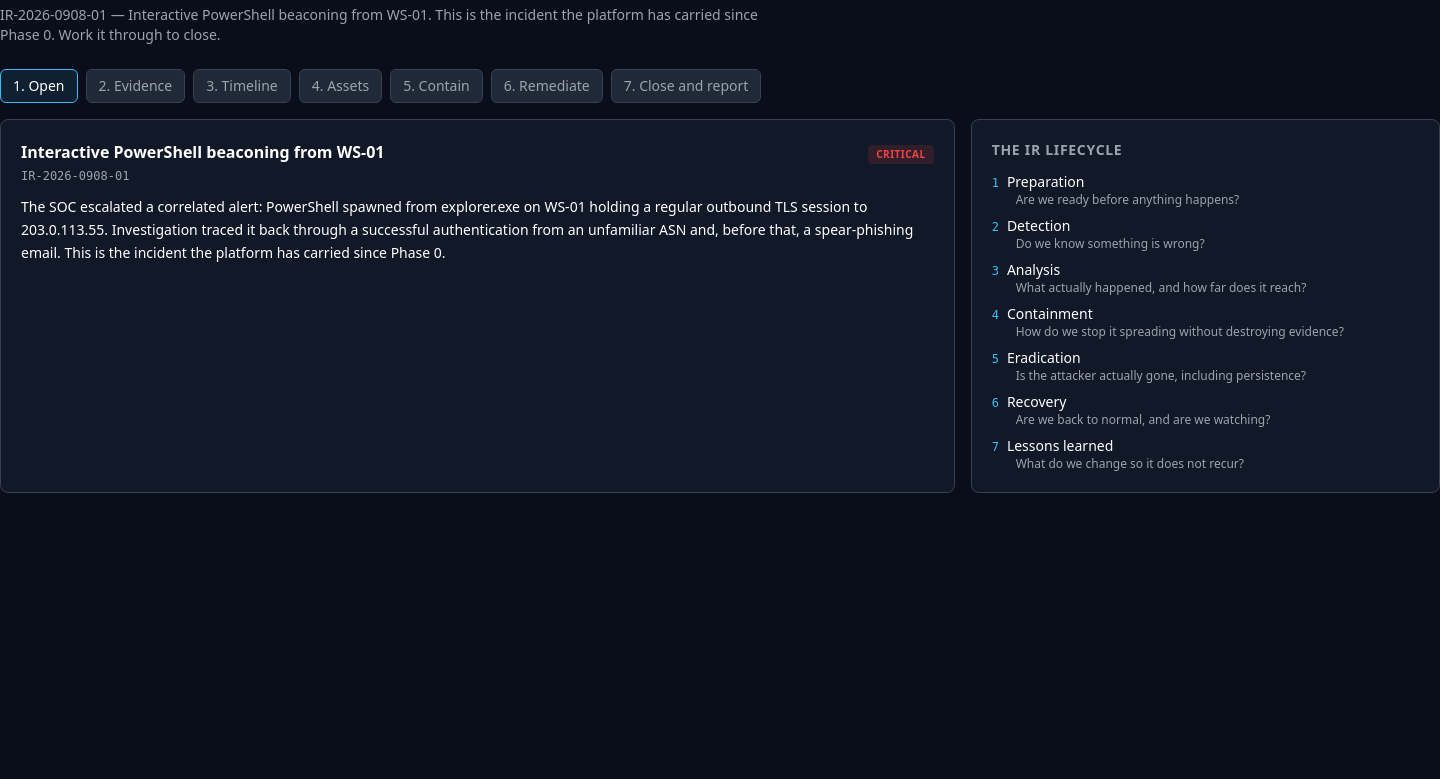
Incident Console › reports both containment axes as failed for a reboot
Click the button "5. Contain": (436, 86) top-left (390, 69), bottom-right (483, 103)
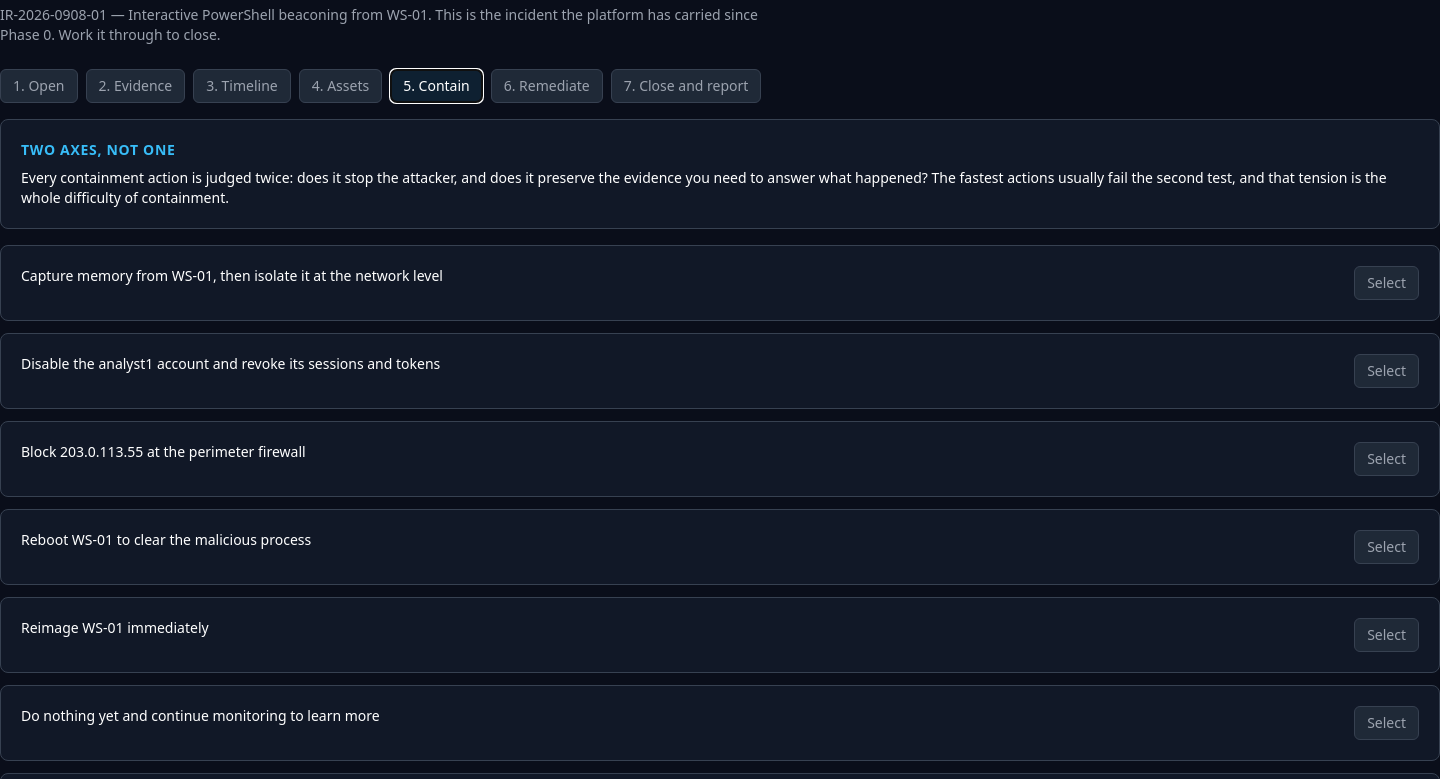
Click the button with aria-label "Select: Reboot WS-01 to clear the malicious process": (1387, 547) top-left (1354, 530), bottom-right (1419, 564)
(page scrolled)
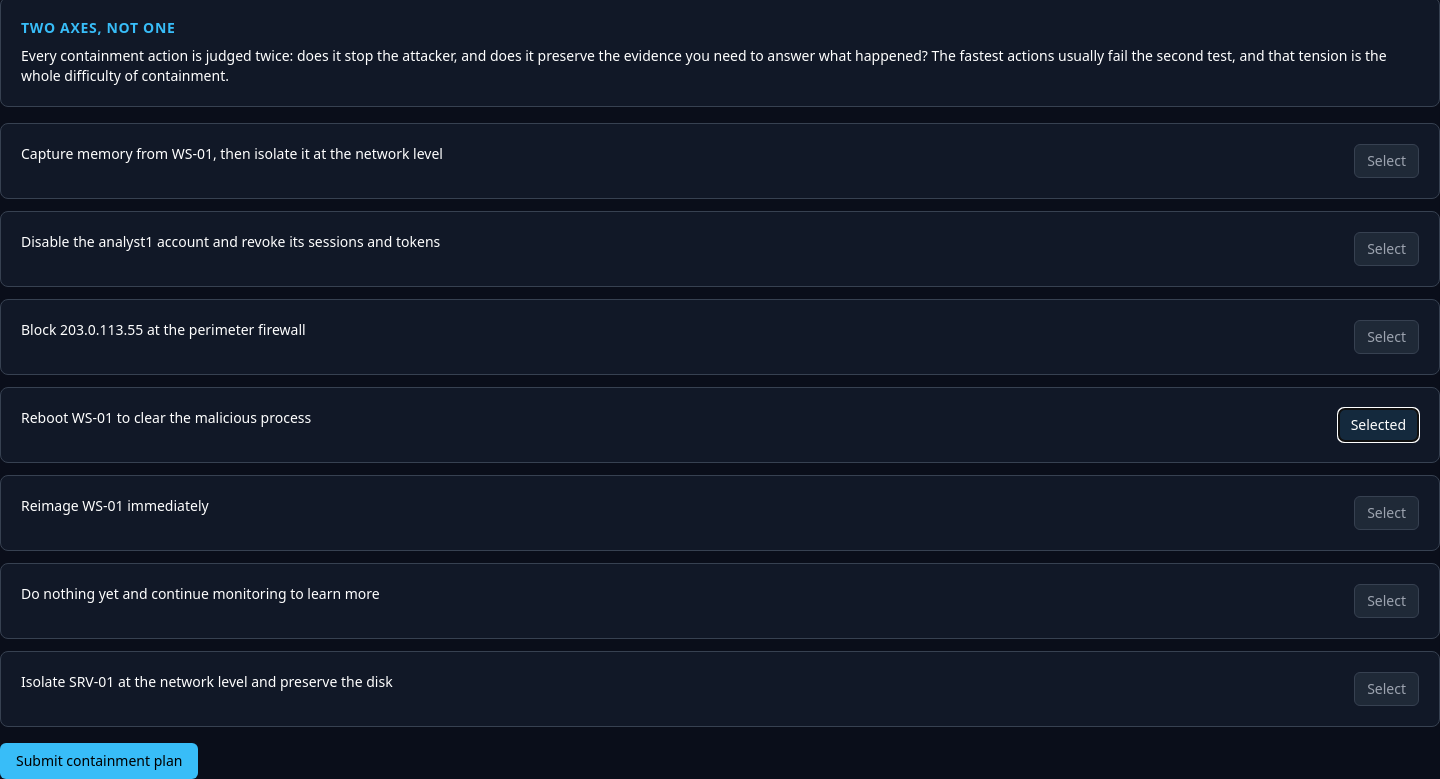
Click the button "Submit containment plan": (99, 761) top-left (0, 743), bottom-right (198, 778)
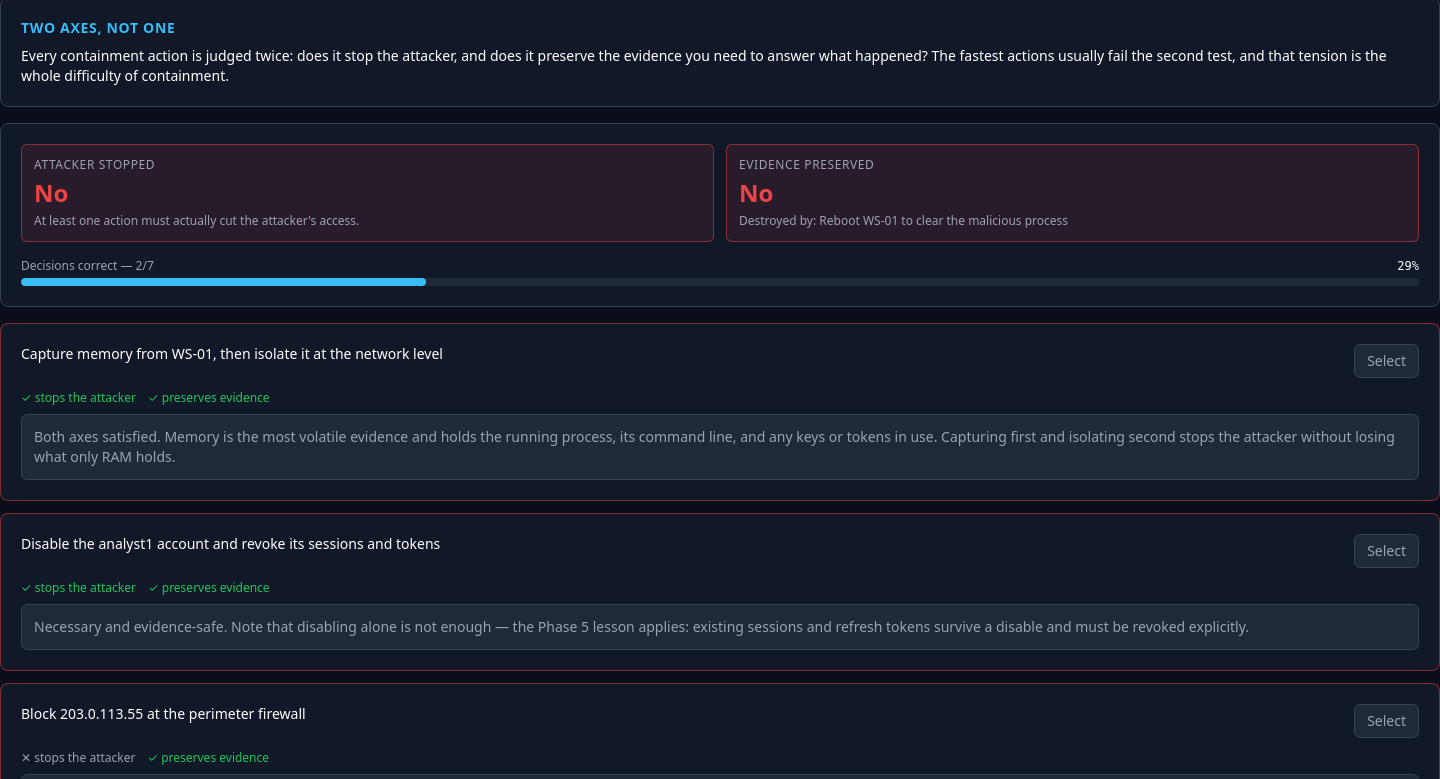
Expected: the text with test id "contained" reads "No", top-left (34, 176), bottom-right (68, 209)
Expected: the text with test id "evidence-preserved" reads "No", top-left (739, 176), bottom-right (773, 209)
